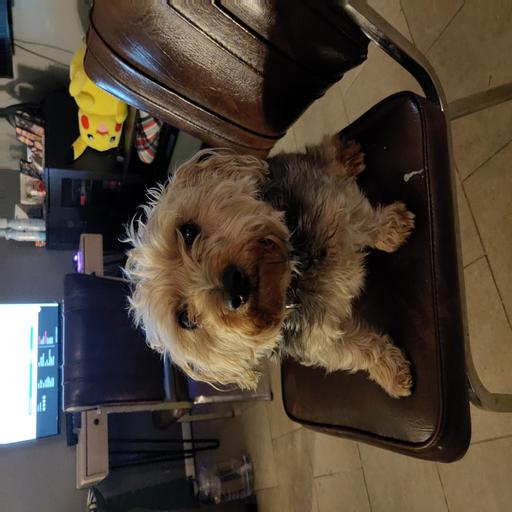dog: (130, 137, 378, 385)
